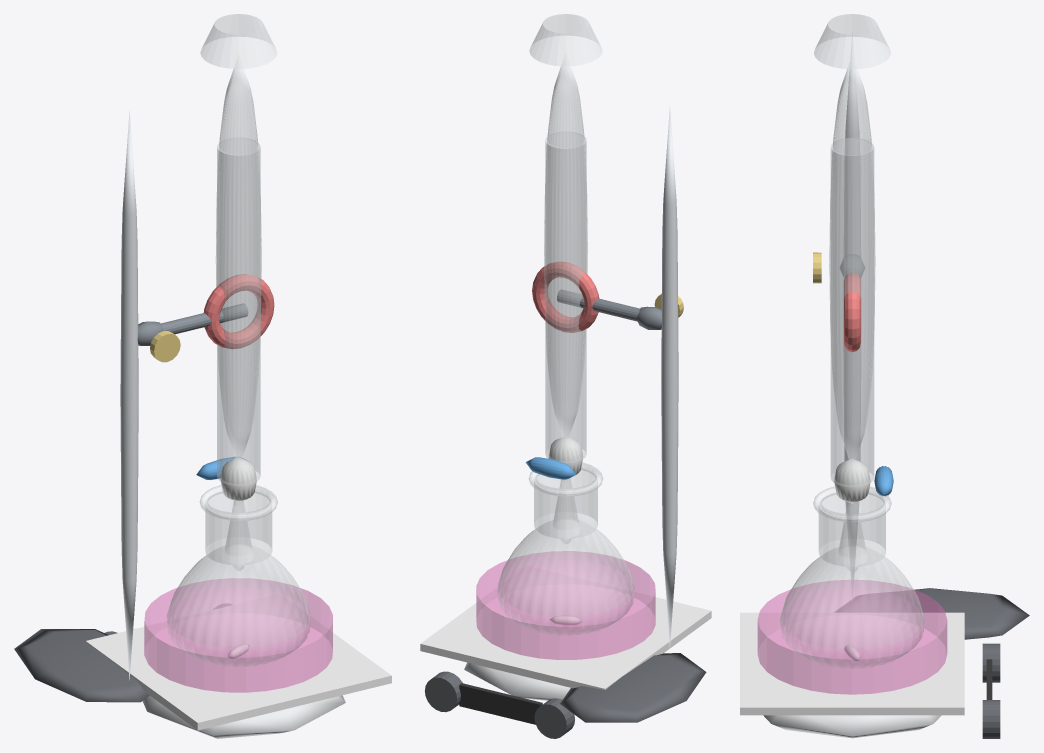
Rendered from titration_realistic.glb.
3 views of the same model, side by side, from view 1: azimuth 30°, elevation 25°; view 2: azimuth 150°, elevation 25°; view 3: azimuth 270°, elevation 25° (orthographic). The views are drawn at different scales.
Parts seen in each view (by area): view 1: Ceramic_Stirrer_Plate, Analyte_Indicator_Solution, Titrant_Solution_Column, Borosilicate_Burette_Tube, Erlenmeyer_Flask_Body, Retort_Stand_Rod, Retort_Stand_Base, Erlenmeyer_Flask_Neck, Burette_Funnel_Rim, Magnetic_Stirrer_Housing, Burette_Clamp_Jaws, PTFE_Stopcock_Valve (+4 smaller); view 2: Ceramic_Stirrer_Plate, Analyte_Indicator_Solution, Titrant_Solution_Column, Borosilicate_Burette_Tube, Erlenmeyer_Flask_Body, Retort_Stand_Rod, Retort_Stand_Base, Erlenmeyer_Flask_Neck, Burette_Funnel_Rim, Burette_Clamp_Jaws, Digital_LED_Readout, Magnetic_Stirrer_Housing (+8 smaller); view 3: Ceramic_Stirrer_Plate, Analyte_Indicator_Solution, Titrant_Solution_Column, Borosilicate_Burette_Tube, Erlenmeyer_Flask_Body, Retort_Stand_Rod, Retort_Stand_Base, Erlenmeyer_Flask_Neck, Burette_Funnel_Rim, Magnetic_Stirrer_Housing, PTFE_Stopcock_Valve, Burette_Clamp_Jaws (+5 smaller).
Part boxes in pixels (<box>): Ceramic_Stirrer_Plate: <box>85,594,391,730</box>; Analyte_Indicator_Solution: <box>144,578,332,692</box>; Titrant_Solution_Column: <box>217,137,260,485</box>; Borosilicate_Burette_Tube: <box>215,55,261,459</box>; Erlenmeyer_Flask_Body: <box>167,544,310,666</box>; Retort_Stand_Rod: <box>120,110,138,680</box>; Retort_Stand_Base: <box>14,629,149,702</box>; Erlenmeyer_Flask_Neck: <box>205,491,272,565</box>; Burette_Funnel_Rim: <box>200,14,276,69</box>; Magnetic_Stirrer_Housing: <box>142,695,345,738</box>; Burette_Clamp_Jaws: <box>203,274,274,349</box>; PTFE_Stopcock_Valve: <box>220,457,256,502</box>; Ceramic_Stirrer_Plate: <box>420,566,711,689</box>; Analyte_Indicator_Solution: <box>476,551,655,659</box>; Titrant_Solution_Column: <box>545,132,586,462</box>; Borosilicate_Burette_Tube: <box>544,53,587,438</box>; Erlenmeyer_Flask_Body: <box>497,519,634,635</box>; Retort_Stand_Rod: <box>661,106,678,647</box>; Retort_Stand_Base: <box>560,653,706,722</box>; Erlenmeyer_Flask_Neck: <box>534,468,597,538</box>; Burette_Funnel_Rim: <box>529,14,602,66</box>; Burette_Clamp_Jaws: <box>532,261,599,332</box>; Digital_LED_Readout: <box>459,683,542,724</box>; Magnetic_Stirrer_Housing: <box>464,662,570,700</box>; Ceramic_Stirrer_Plate: <box>740,612,964,715</box>; Analyte_Indicator_Solution: <box>757,580,947,694</box>; Titrant_Solution_Column: <box>830,138,874,487</box>; Borosilicate_Burette_Tube: <box>829,54,875,460</box>; Erlenmeyer_Flask_Body: <box>780,546,924,668</box>; Retort_Stand_Rod: <box>843,30,861,597</box>; Retort_Stand_Base: <box>835,588,1029,639</box>; Erlenmeyer_Flask_Neck: <box>818,493,885,566</box>; Burette_Funnel_Rim: <box>814,14,890,69</box>; Magnetic_Stirrer_Housing: <box>763,715,941,738</box>; PTFE_Stopcock_Valve: <box>834,458,870,503</box>; Burette_Clamp_Jaws: <box>844,272,860,352</box>.
Size of the model in its own units: 4.32 by 10.79 by 4.13.
